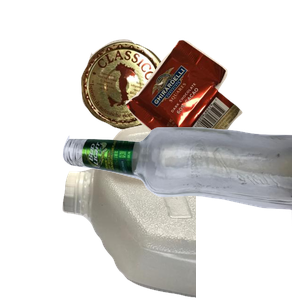glass: (60, 124, 300, 300)
metal: (78, 37, 243, 163)
plastic: (60, 120, 300, 300)
trash: (123, 37, 300, 192)
